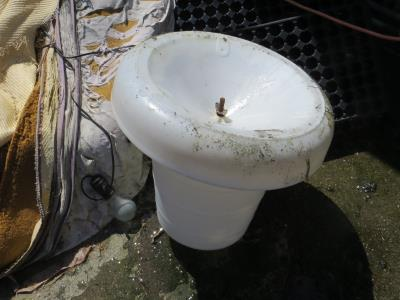bowl: (105, 28, 339, 191)
